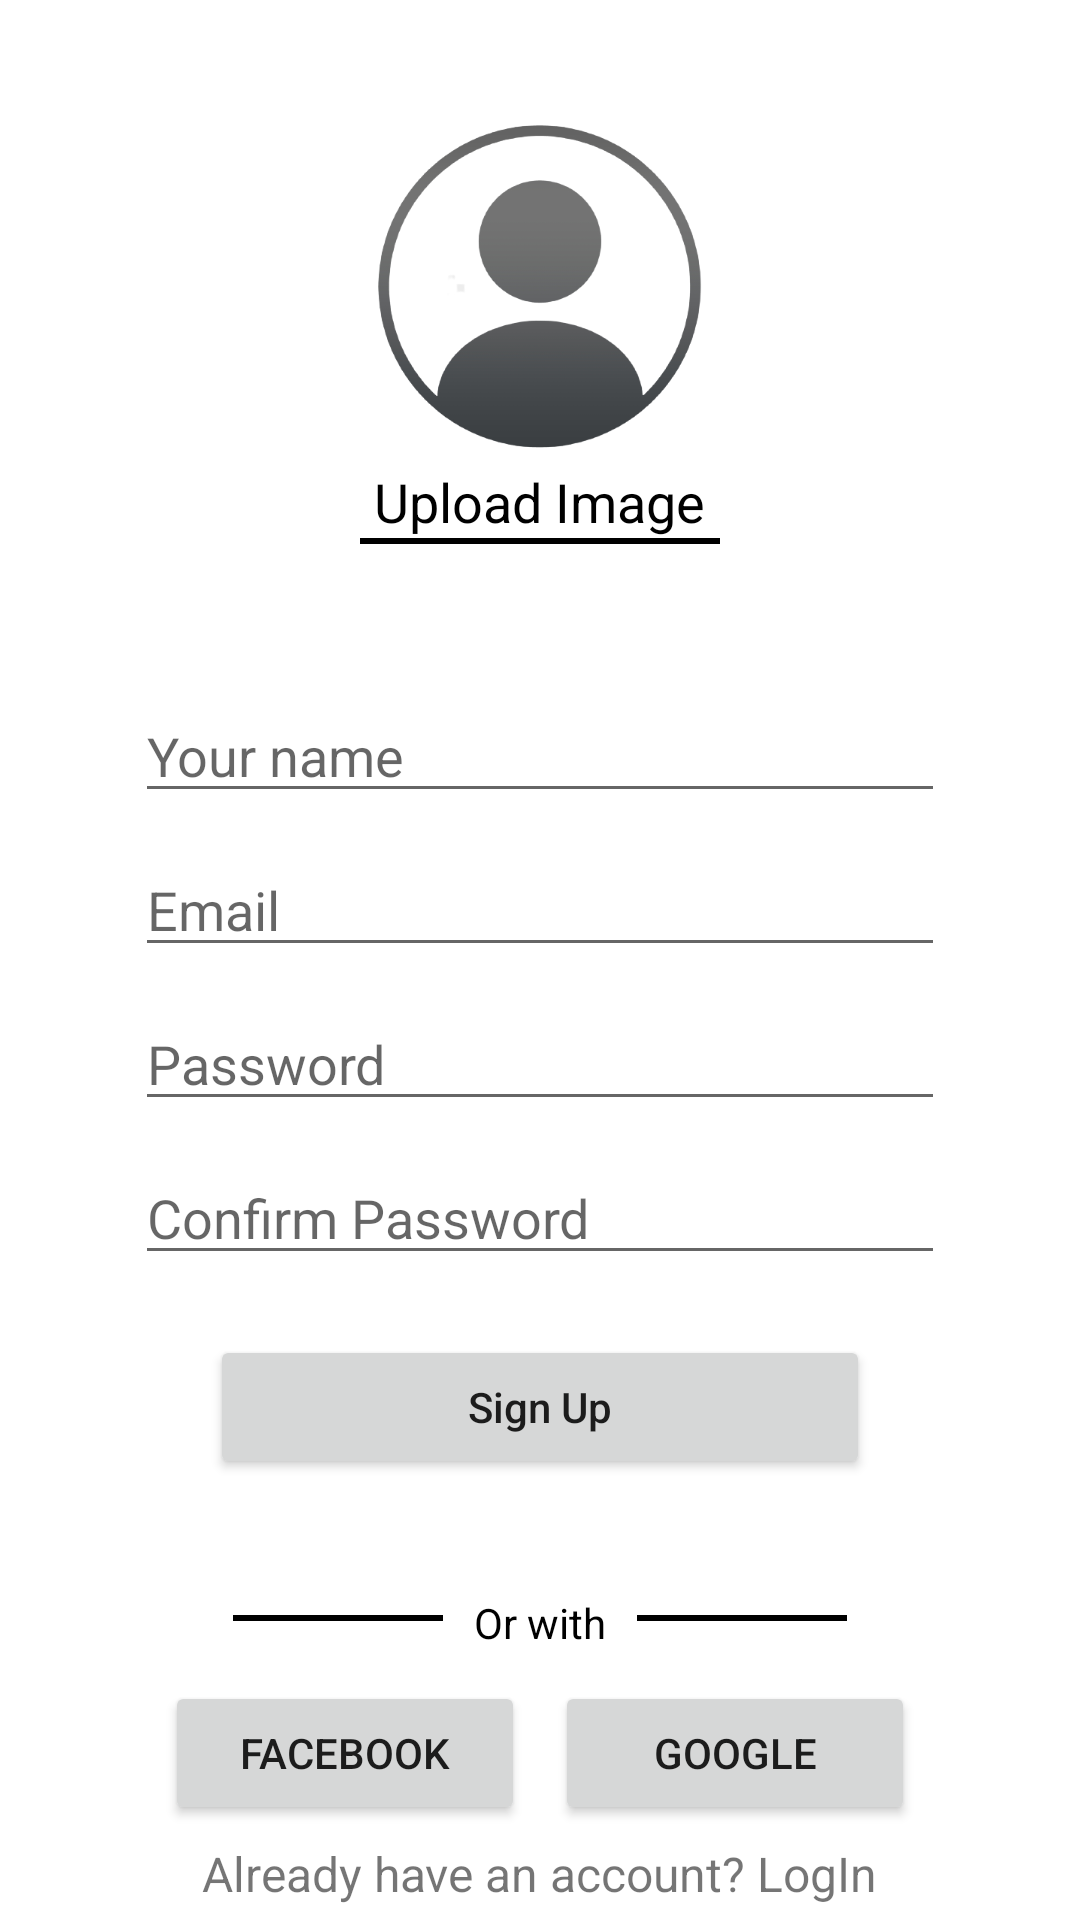

Icons on this 1080×1920 Android screen, each with the point to tap as point (x, y):
profile: point (539, 286)
